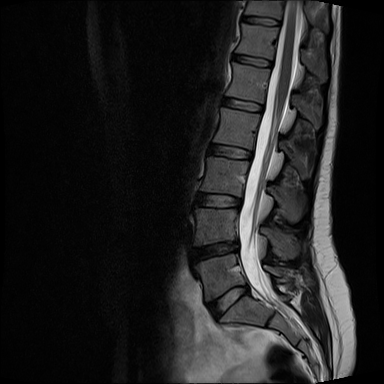Lumbar Disc Bulge (LDB): (200, 276, 251, 325), (187, 235, 246, 267)
Normal IVD: (189, 183, 244, 214), (200, 137, 255, 165), (217, 91, 266, 118), (225, 48, 276, 72), (236, 9, 284, 31)
